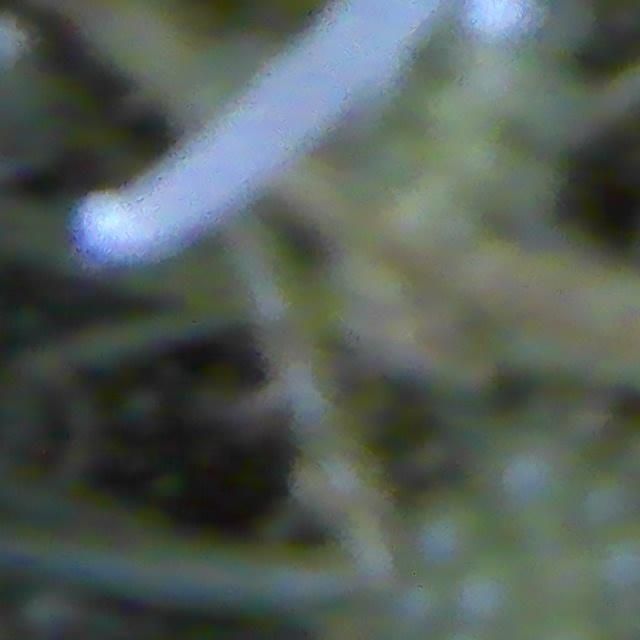SeaGrape: (454, 547, 522, 630), (498, 442, 567, 510), (388, 572, 438, 639), (414, 507, 470, 566), (580, 485, 634, 543)
